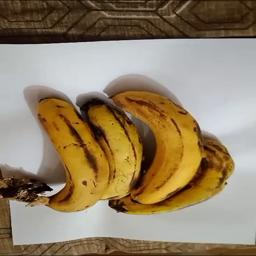Banana Semifresh: (14, 85, 236, 217)
